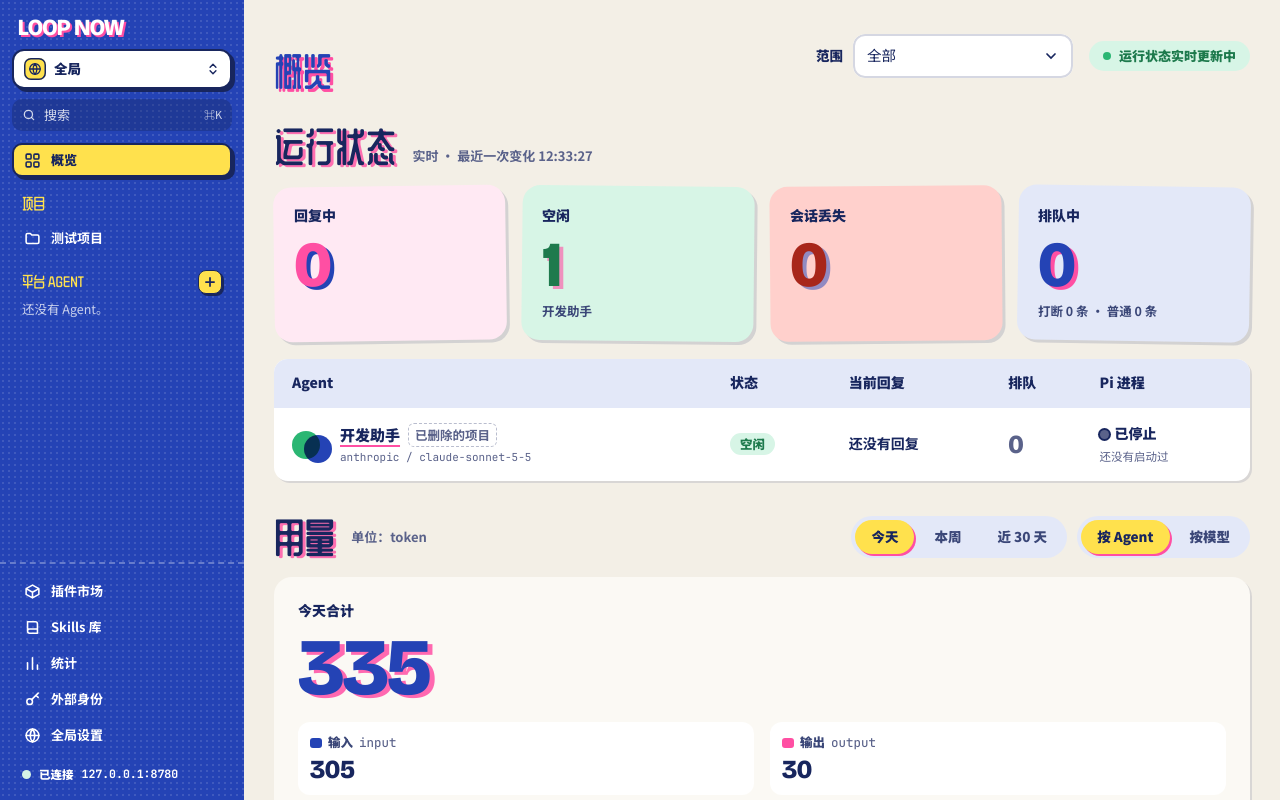
Test case: 用量 › 按模型查看时，同一模型的数值为各 Agent 之和；没有模型的显示为未知模型
Expected: the heading "概览" is shown, top-left (274, 52), bottom-right (332, 90)
Expected: the text "今天合计" is shown, top-left (298, 602), bottom-right (354, 619)
Step 1. Click the radio button labelled "按模型" → coordinates (1210, 537), box top-left (1174, 520), bottom-right (1246, 554)
(page scrolled)
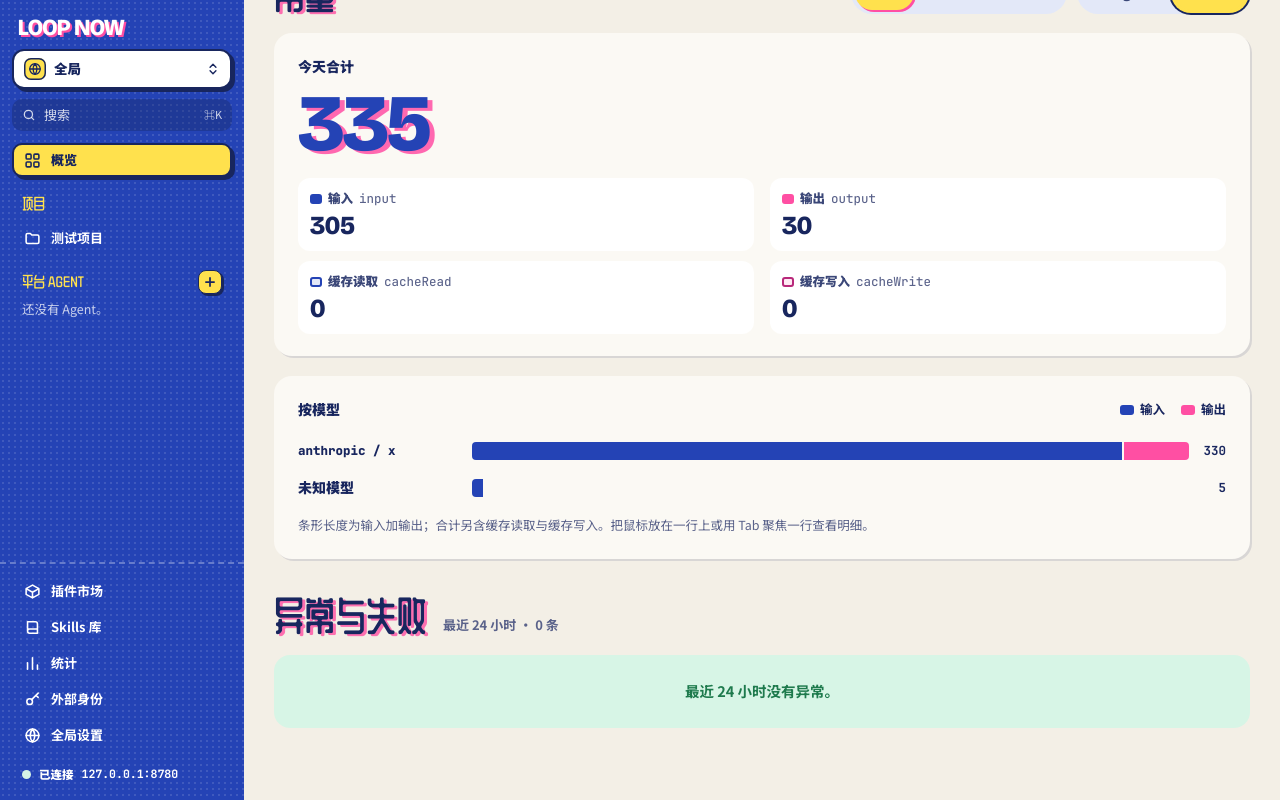
Result: the list item "anthropic / x 330" is shown at top-left (298, 440), bottom-right (1226, 462)
Result: the list item "未知模型 5" is shown at top-left (298, 476), bottom-right (1226, 501)
